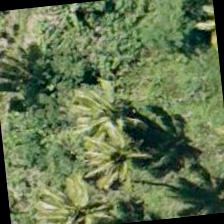Kelapa_Sawit: (68, 106, 167, 205), (48, 66, 147, 165), (35, 167, 131, 223)
